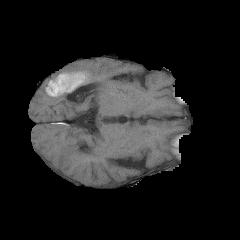glioma: (45, 72, 104, 167)
